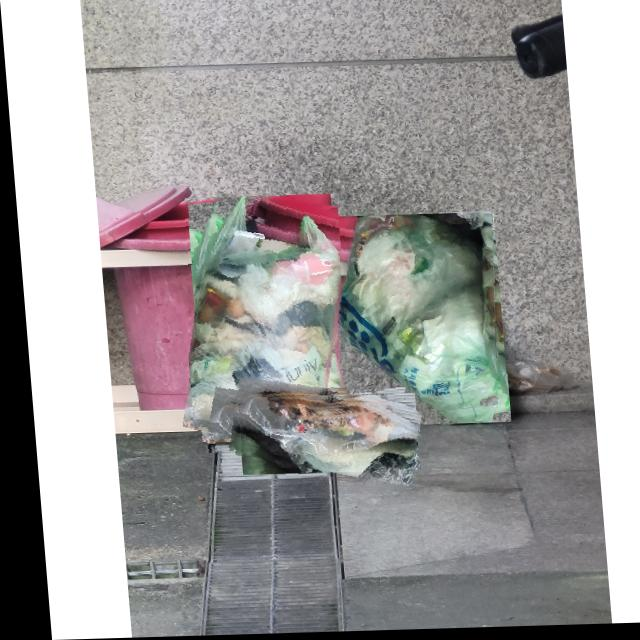general_trashbag: (184, 198, 337, 448), (323, 217, 494, 416), (239, 292, 240, 293)
other_trashbag: (234, 399, 412, 467)
